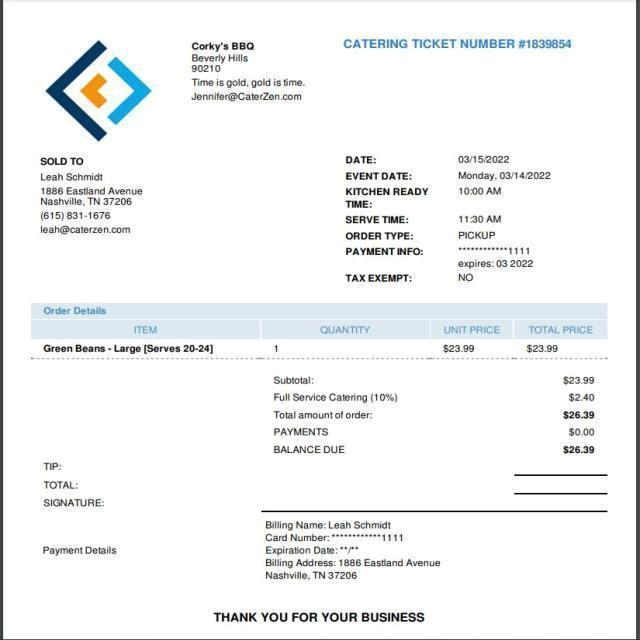paragraph: (325, 139, 560, 288), (266, 370, 613, 458), (259, 516, 474, 589), (39, 20, 162, 141), (26, 450, 136, 574), (33, 150, 158, 255), (177, 29, 319, 121), (204, 602, 433, 632), (343, 33, 575, 50)
table: (24, 299, 613, 360)
